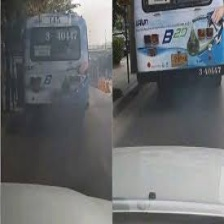smoke: (45, 102, 94, 169)
